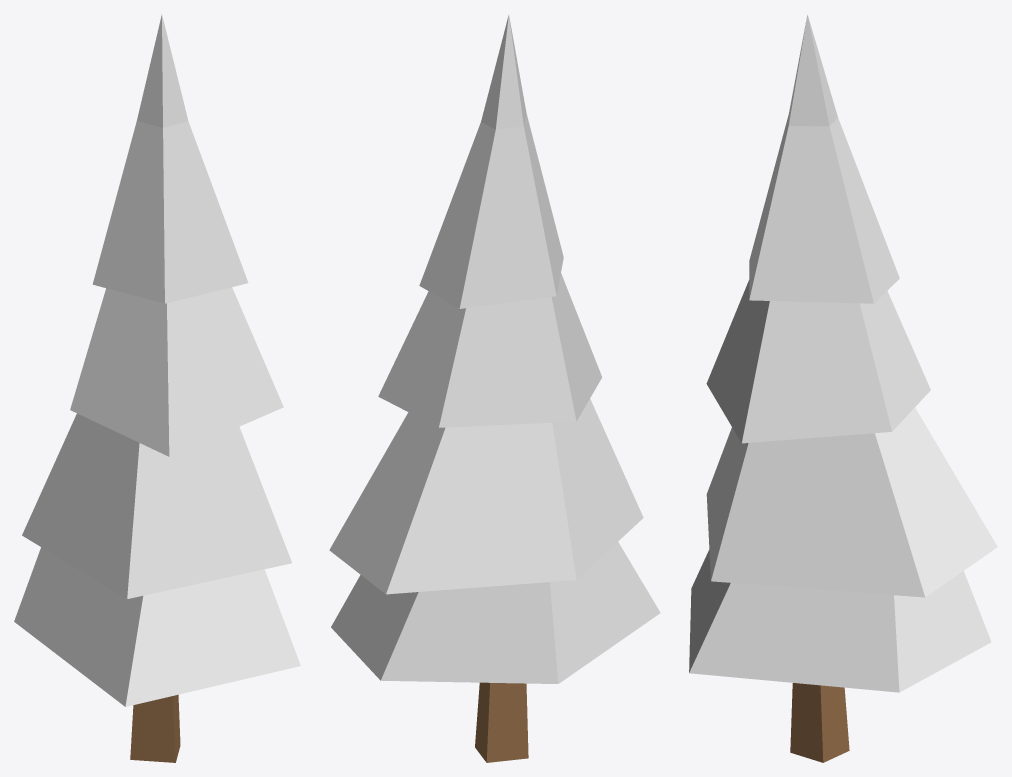
The model's file is Fir_Tree_OneSided_m_Snow_10.fbx.
3 renders of one model, left to right at view 1: azimuth 30°, elevation 25°; view 2: azimuth 150°, elevation 25°; view 3: azimuth 270°, elevation 25°, orthographic.
Visible parts, largest first — view 1: Fir_Tree_OneSided_m_Snow_10; view 2: Fir_Tree_OneSided_m_Snow_10; view 3: Fir_Tree_OneSided_m_Snow_10.
Boxes of the visible parts, x1,y1,x2,y2 form: Fir_Tree_OneSided_m_Snow_10: [14, 14, 300, 762]; Fir_Tree_OneSided_m_Snow_10: [329, 14, 660, 762]; Fir_Tree_OneSided_m_Snow_10: [689, 14, 997, 762].
Bounding box in the file's own units: 146 × 434 × 165.
